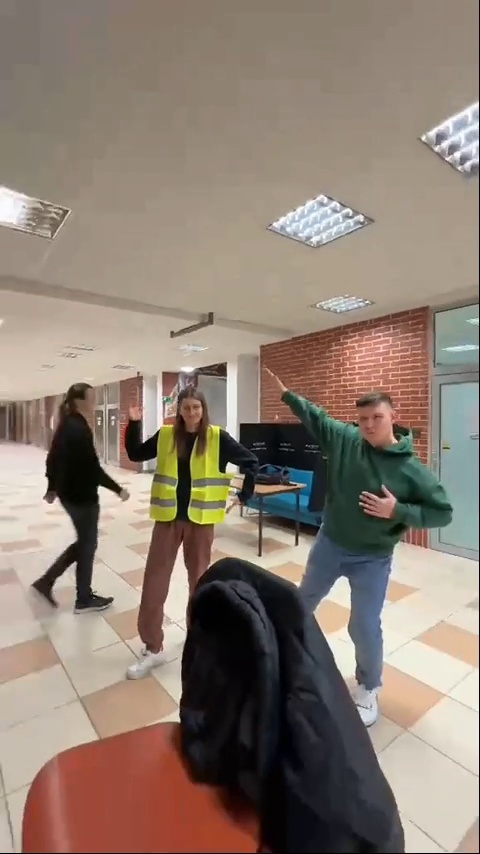no vest: (292, 375, 456, 706), (33, 375, 127, 607)
vest: (129, 390, 259, 688)
